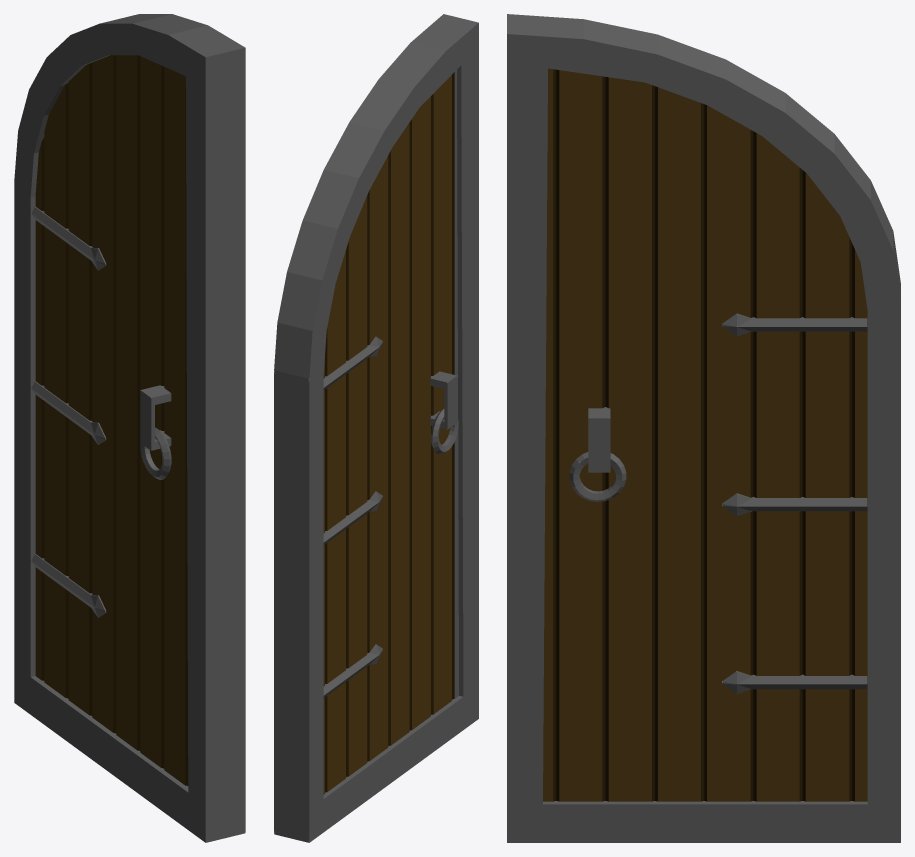
The model's file is door.obj.
3 views of the same model, side by side, from view 1: azimuth 30°, elevation 25°; view 2: azimuth 150°, elevation 25°; view 3: azimuth 270°, elevation 25° (orthographic). The views are drawn at different scales.
Parts seen in each view (by area): view 1: 扉大元_立方体.001; view 2: 扉大元_立方体.001; view 3: 扉大元_立方体.001.
Boxes of the visible parts, box(x1,y1,x2,y2) form: 扉大元_立方体.001: box(14, 14, 245, 842); 扉大元_立方体.001: box(274, 14, 478, 842); 扉大元_立方体.001: box(507, 14, 900, 842).
Bounding box in the file's own units: 0.2798 × 3 × 1.32.
Materials: 1 (1 with a texture image).
